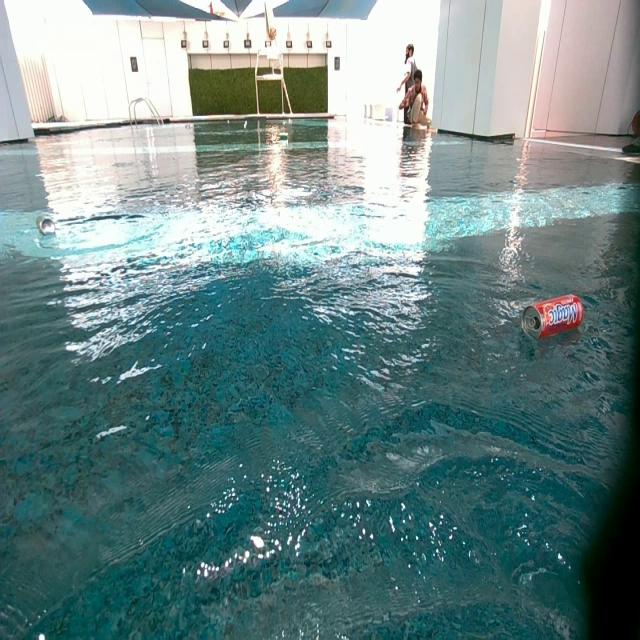Cans: (520, 294, 584, 344), (35, 212, 56, 236), (278, 135, 290, 147), (522, 142, 532, 153), (243, 120, 248, 128), (184, 124, 190, 128), (228, 120, 230, 124)
